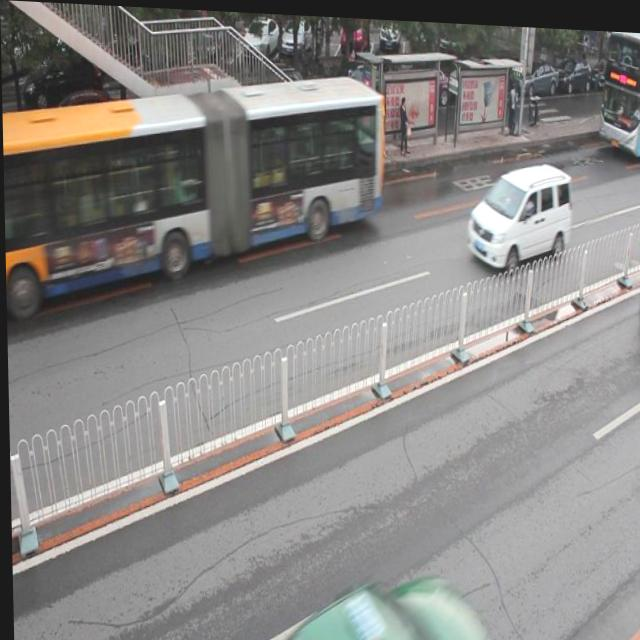car: (35, 87, 123, 167), (133, 85, 224, 157), (325, 65, 401, 142), (247, 65, 323, 141), (2, 109, 16, 168)
truck: (461, 156, 573, 266)
van: (1, 56, 388, 336), (596, 24, 640, 152)
